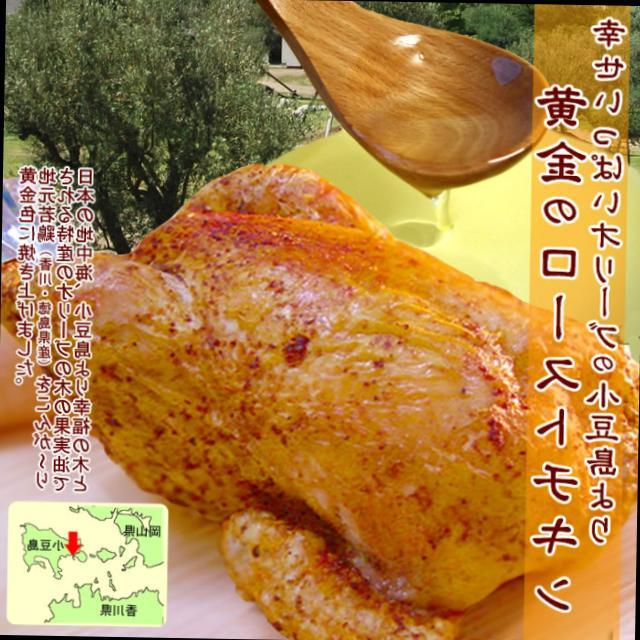Chicken: (163, 184, 526, 632)
